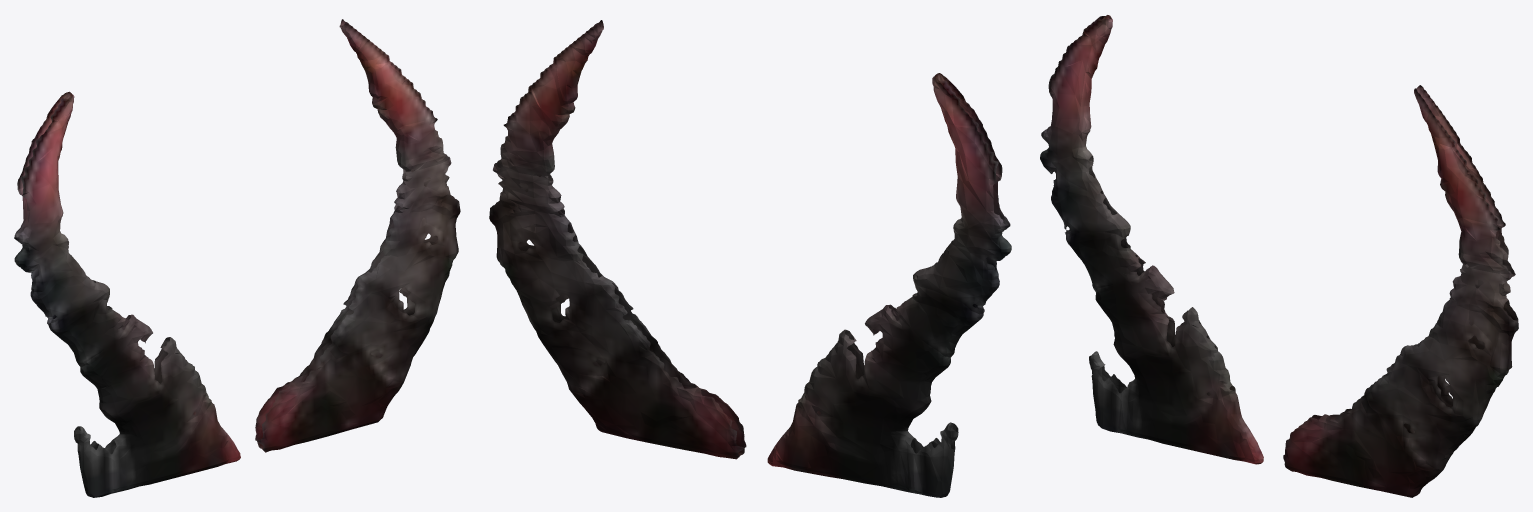
Rendered from imphorns.glb.
The picture shows the model from 3 angles, left to right: view 1: azimuth 30°, elevation 25°; view 2: azimuth 150°, elevation 25°; view 3: azimuth 330°, elevation 25°; orthographic projection. The views are drawn at different scales.
Visible parts, largest first — view 1: geometry_0; view 2: geometry_0; view 3: geometry_0.
Part boxes in pixels (left/top/right/bottom): geometry_0: left=14, top=19, right=460, bottom=497; geometry_0: left=489, top=20, right=1011, bottom=497; geometry_0: left=1040, top=15, right=1518, bottom=497.
Bounding box in the file's own units: 1.08 × 0.9036 × 0.1475.
1 material, 1 textured.
